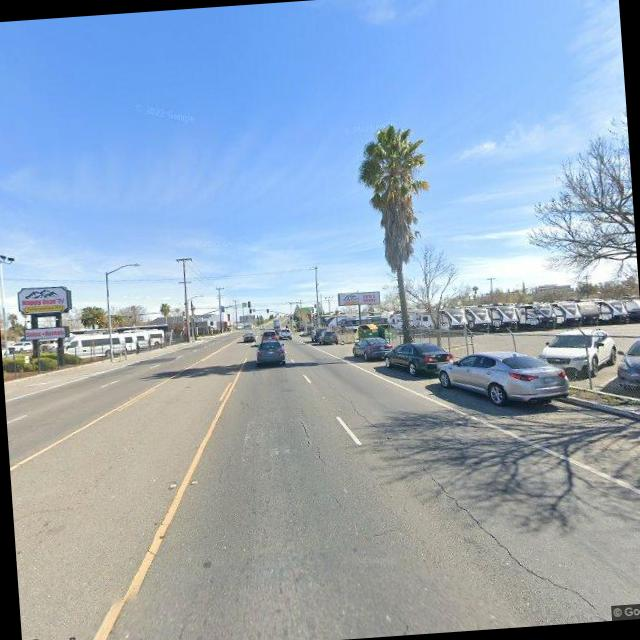pothole: (417, 446, 600, 628), (294, 411, 328, 472), (344, 392, 376, 429)
